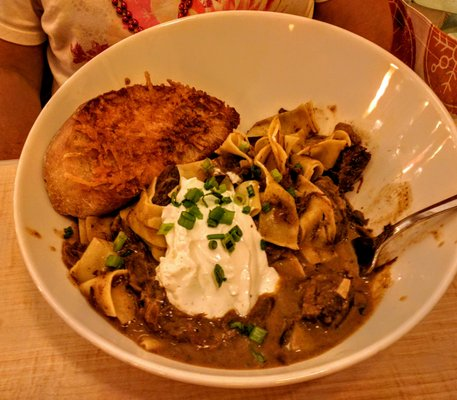sushi: (9, 32, 436, 386)
